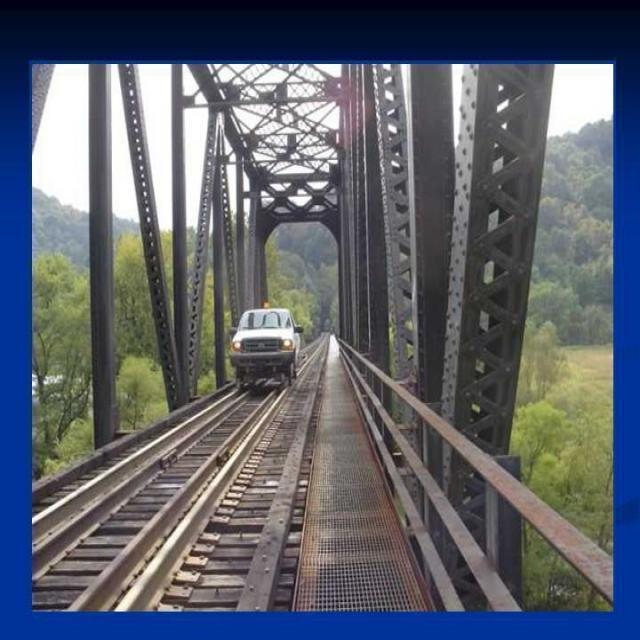rail: (68, 341, 328, 615), (31, 390, 251, 580)
